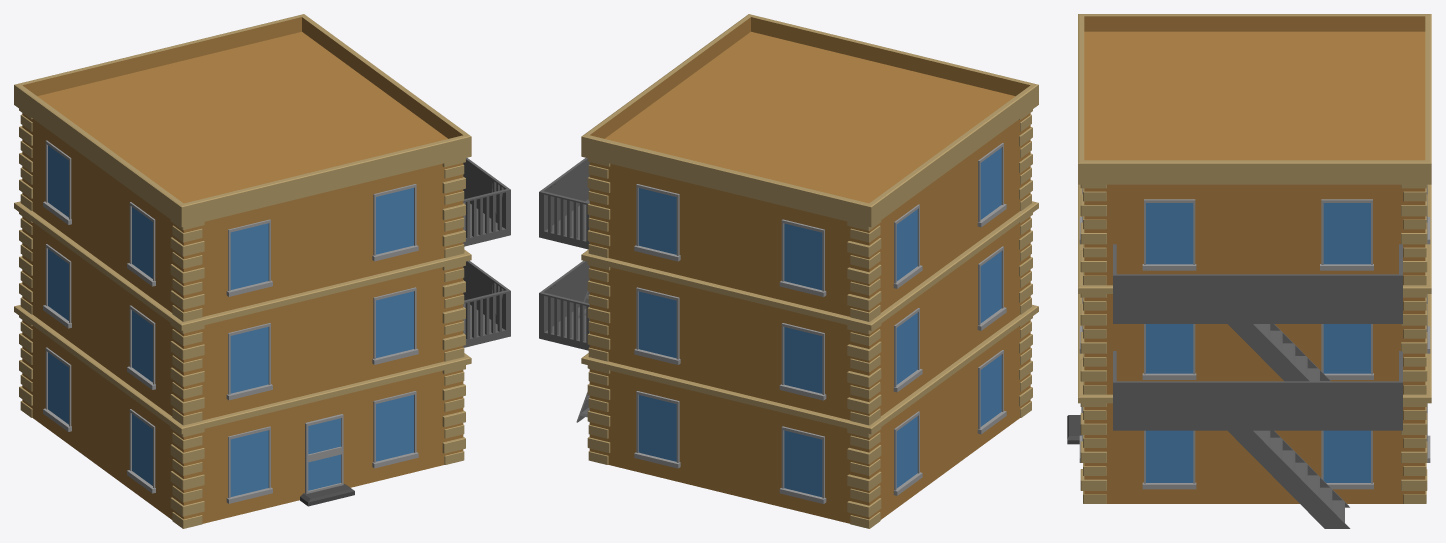
The model's file is GebouwGeelLaag.fbx.
3 views of the same model, side by side, from view 1: azimuth 30°, elevation 25°; view 2: azimuth 150°, elevation 25°; view 3: azimuth 270°, elevation 25° (orthographic). The views are drawn at different scales.
Visible parts, largest first — view 1: gebouwGeelLaag; view 2: gebouwGeelLaag; view 3: gebouwGeelLaag.
Part boxes in pixels (x1=…): gebouwGeelLaag: x1=14, y1=14, x2=510, y2=528; gebouwGeelLaag: x1=539, y1=14, x2=1038, y2=528; gebouwGeelLaag: x1=1067, y1=14, x2=1431, y2=528.
Bounding box in the file's own units: 742 × 667 × 641.
